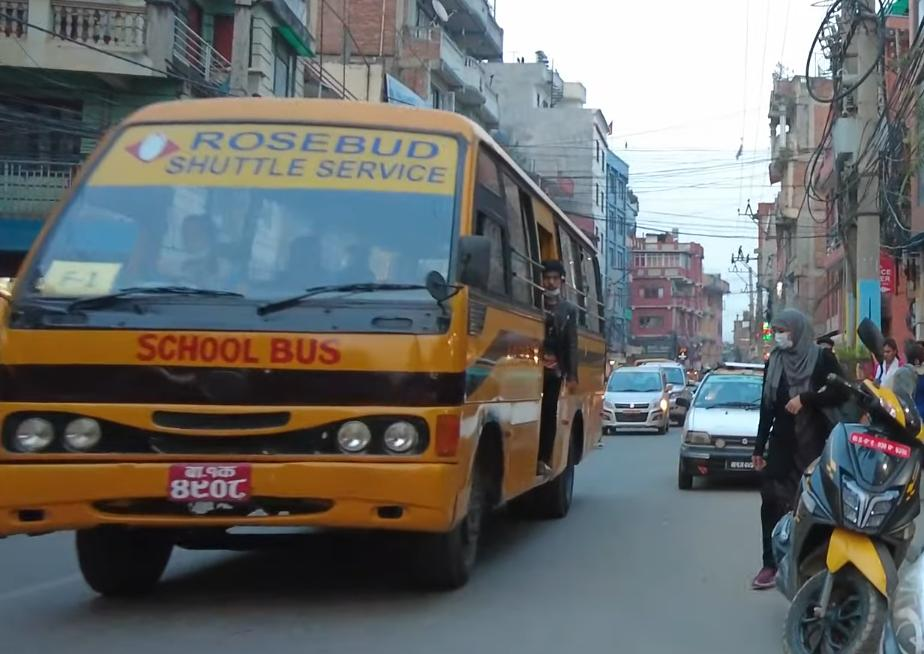car: (603, 367, 669, 438)
school_bus: (0, 93, 614, 601)
scooter: (773, 365, 924, 654)
taxi: (677, 354, 779, 494)
